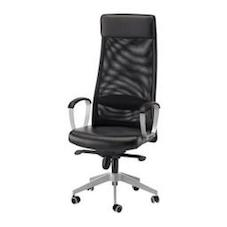chair: (41, 0, 182, 224)
